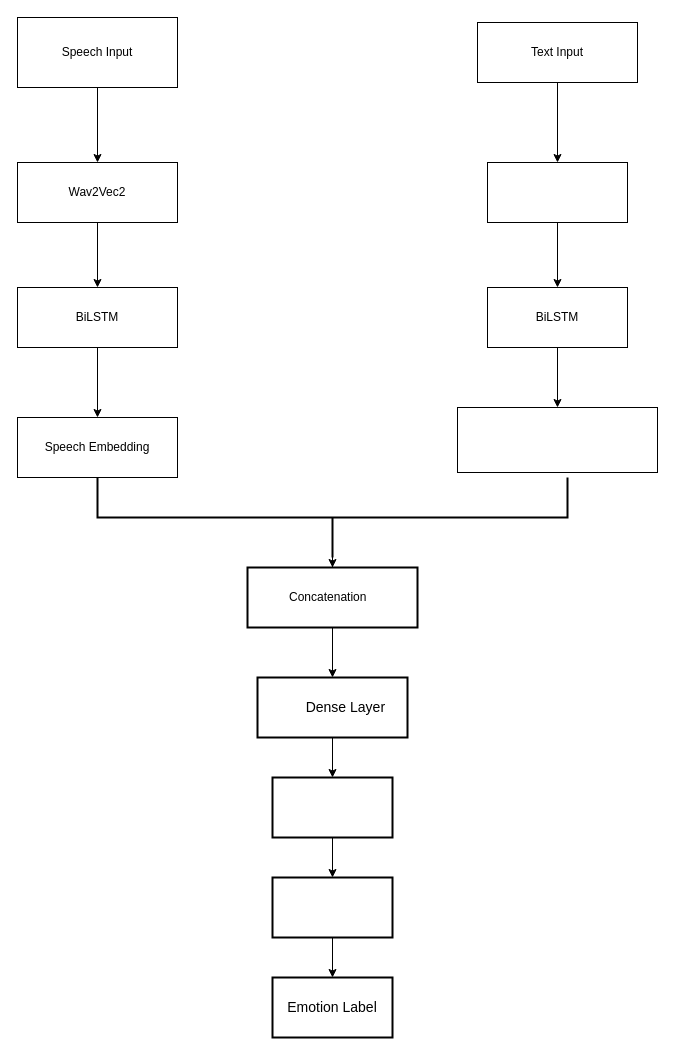
The diagram is 675 pixels wide and 1056 high, and some of its shapes have lost their labels. The box of each missing label's shape, as (x1, y1, x2, y2) in pixels:
DistilBERT: (486, 162, 628, 222)
Dropout: (271, 776, 393, 838)
Softmax: (271, 876, 393, 938)
Text Embedding: (456, 406, 658, 472)
